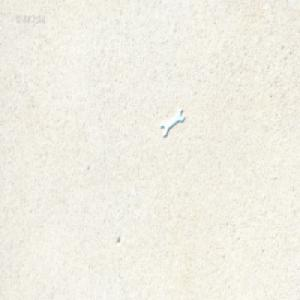Wrench: (160, 111, 184, 140)
